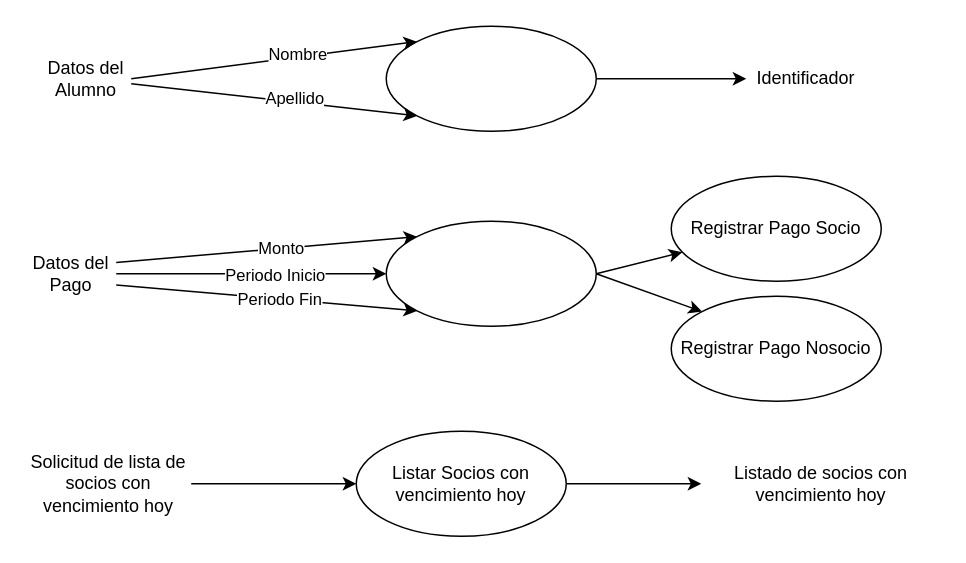
This 966x563 diagram has some shape labels left out. The box of each missing label's shape, as (x1, y1, x2, y2) in pixels:
Registrar Alumno: (385, 25, 596, 131)
Registrar Pago: (385, 220, 596, 326)
